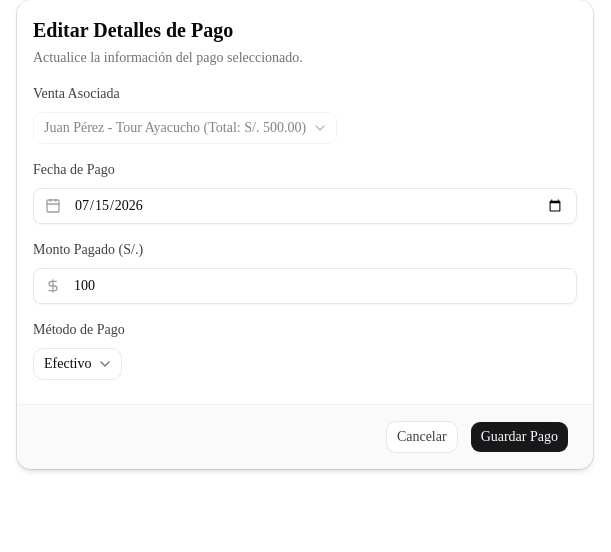
Test: PaymentForm › muestra error genérico si ocurre excepción
This screenshot has width=611, height=552.
Click the button "Guardar Pago": {"x": 519, "y": 437} top-left (470, 421), bottom-right (569, 453)
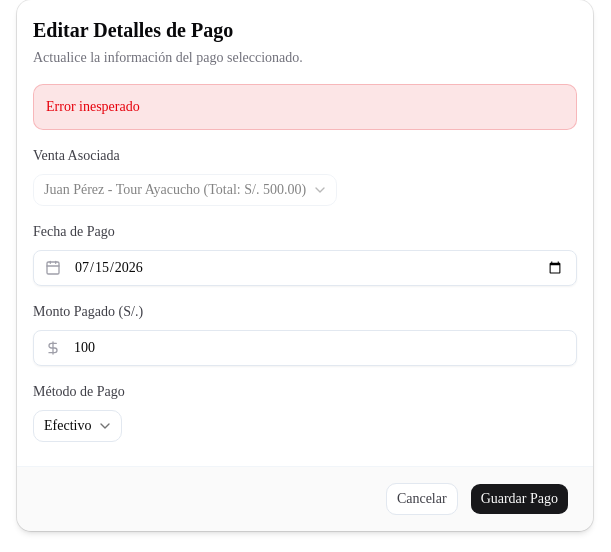
Check: the text "Error inesperado" is shown, box top-left (33, 84), bottom-right (577, 130)
